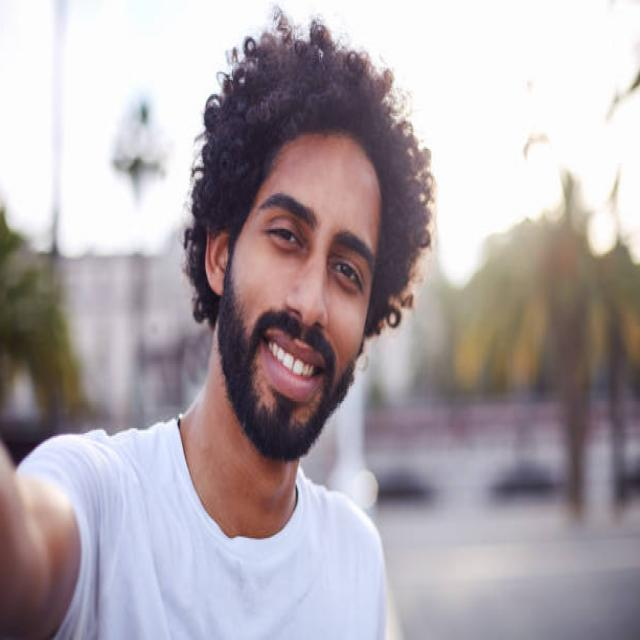earlobe: (206, 202, 236, 297)
